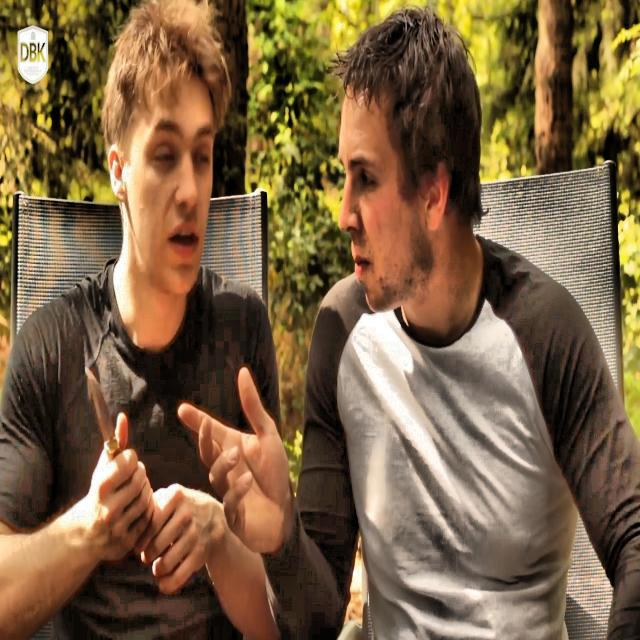knife: (86, 372, 120, 460)
